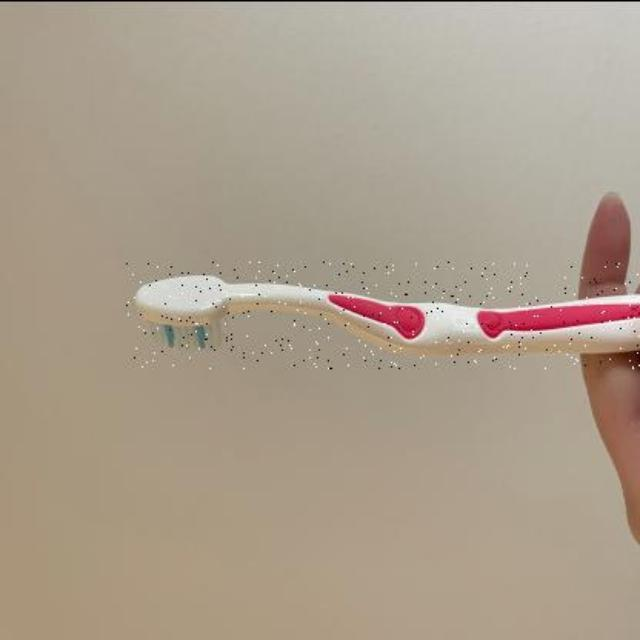toothbrush: (126, 260, 640, 368)
